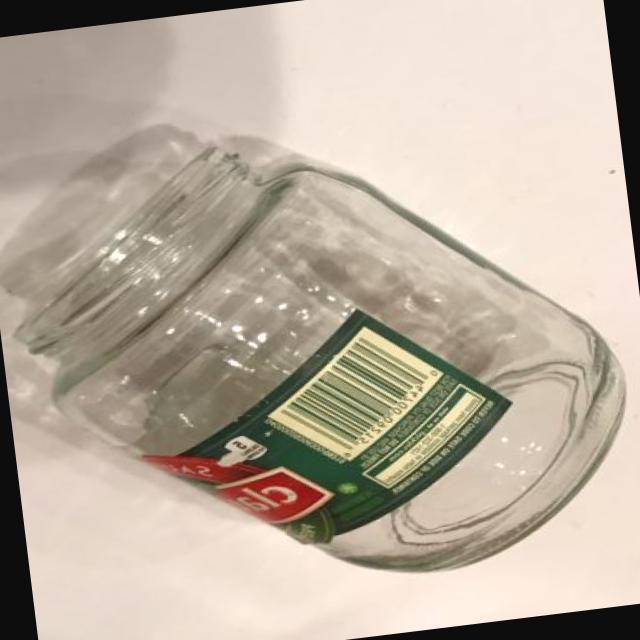bottle: (17, 149, 623, 571)
